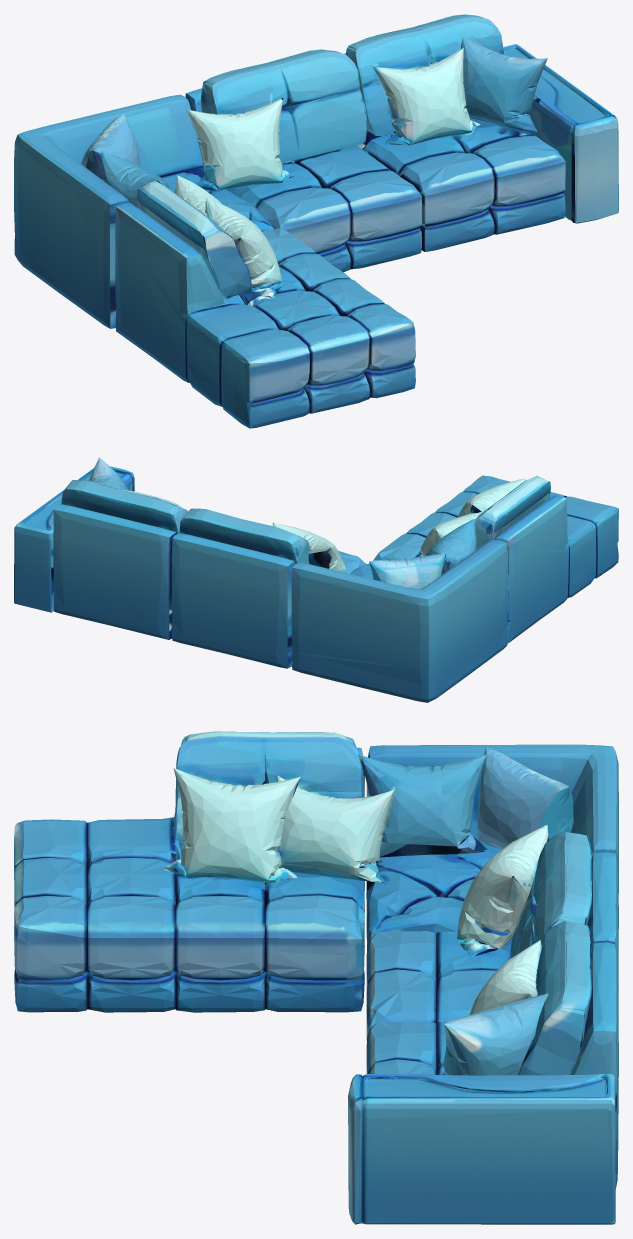
The model's file is edited_mesh.glb.
The picture shows the model from 3 angles, top to bottom: view 1: azimuth 30°, elevation 25°; view 2: azimuth 150°, elevation 25°; view 3: azimuth 270°, elevation 25°; orthographic projection. The views are drawn at different scales.
Visible parts, largest first — view 1: solid_001_wire; view 2: solid_001_wire; view 3: solid_001_wire.
Boxes of the visible parts, x1=… form: solid_001_wire: x1=14, y1=14, x2=618, y2=428; solid_001_wire: x1=14, y1=457, x2=618, y2=702; solid_001_wire: x1=14, y1=731, x2=618, y2=1224.
Size of the model in its own units: 2 by 0.5776 by 1.61.
Materials: 1 (1 with a texture image).
